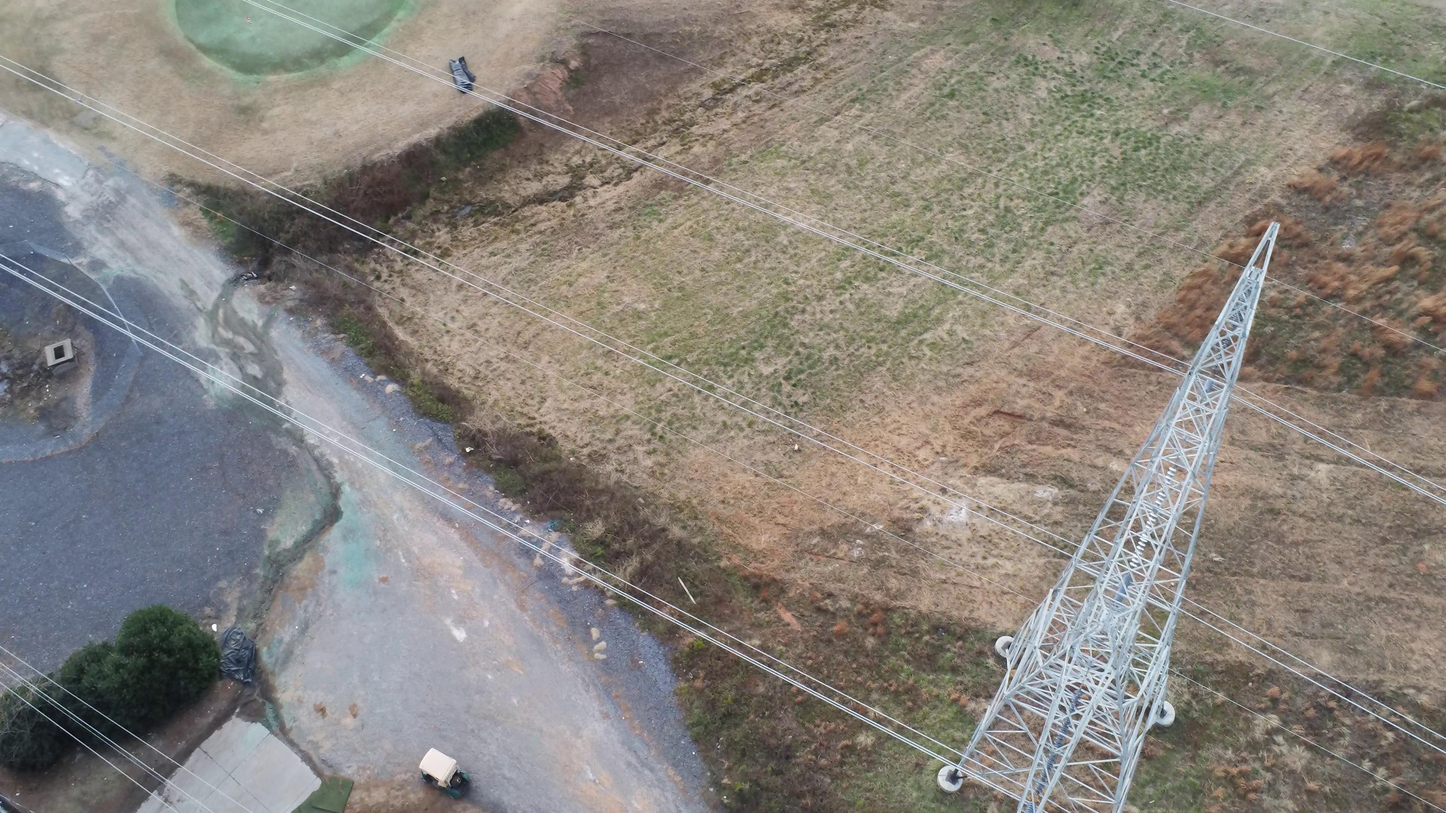power_tower: (937, 221, 1280, 813)
